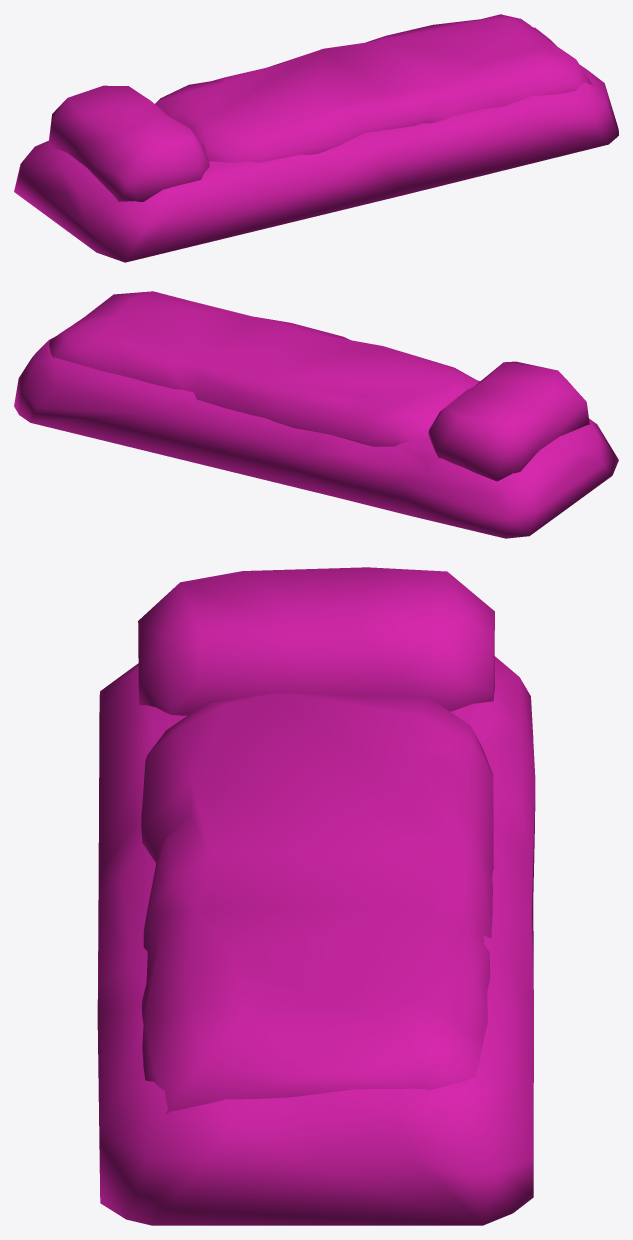
File: Tombstones.003.fbx
The picture shows the model from 3 angles, top to bottom: view 1: azimuth 30°, elevation 25°; view 2: azimuth 150°, elevation 25°; view 3: azimuth 270°, elevation 25°; orthographic projection. The views are drawn at different scales.
Parts seen in each view (by area): view 1: Tombstones.003; view 2: Tombstones.003; view 3: Tombstones.003.
Part boxes in pixels (box(x1,y1,x2,y2)): Tombstones.003: box(14, 14, 618, 262); Tombstones.003: box(14, 291, 618, 538); Tombstones.003: box(97, 567, 535, 1225).
Bounding box in the file's own units: 611 × 106 × 223.
